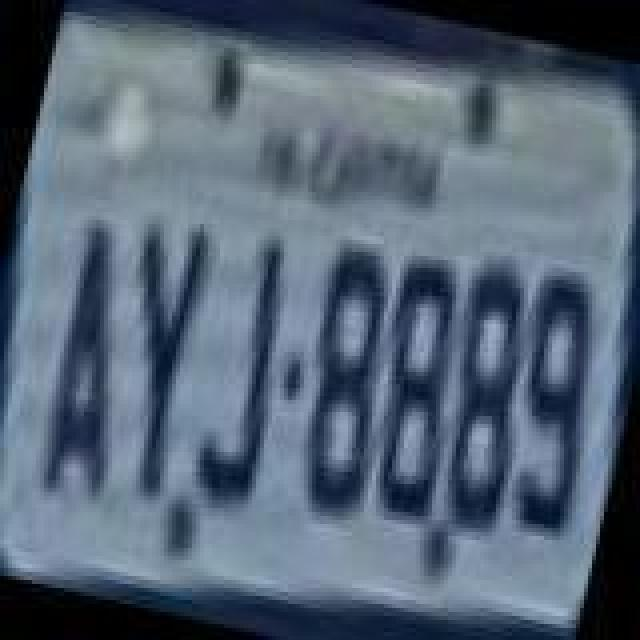8: (272, 242, 416, 526), (416, 260, 560, 540), (346, 256, 486, 528)
9: (480, 266, 624, 542)
A: (26, 218, 166, 510)
J: (186, 236, 310, 516)
Y: (84, 212, 220, 500)
